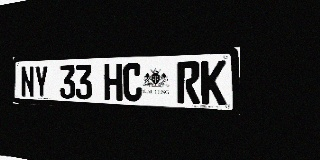3: (75, 64, 92, 100), (60, 65, 75, 99)
C: (123, 63, 142, 102)
H: (104, 63, 122, 101)
K: (201, 60, 226, 105)
N: (21, 66, 34, 98)
R: (177, 61, 200, 104)
Y: (34, 65, 48, 98)
